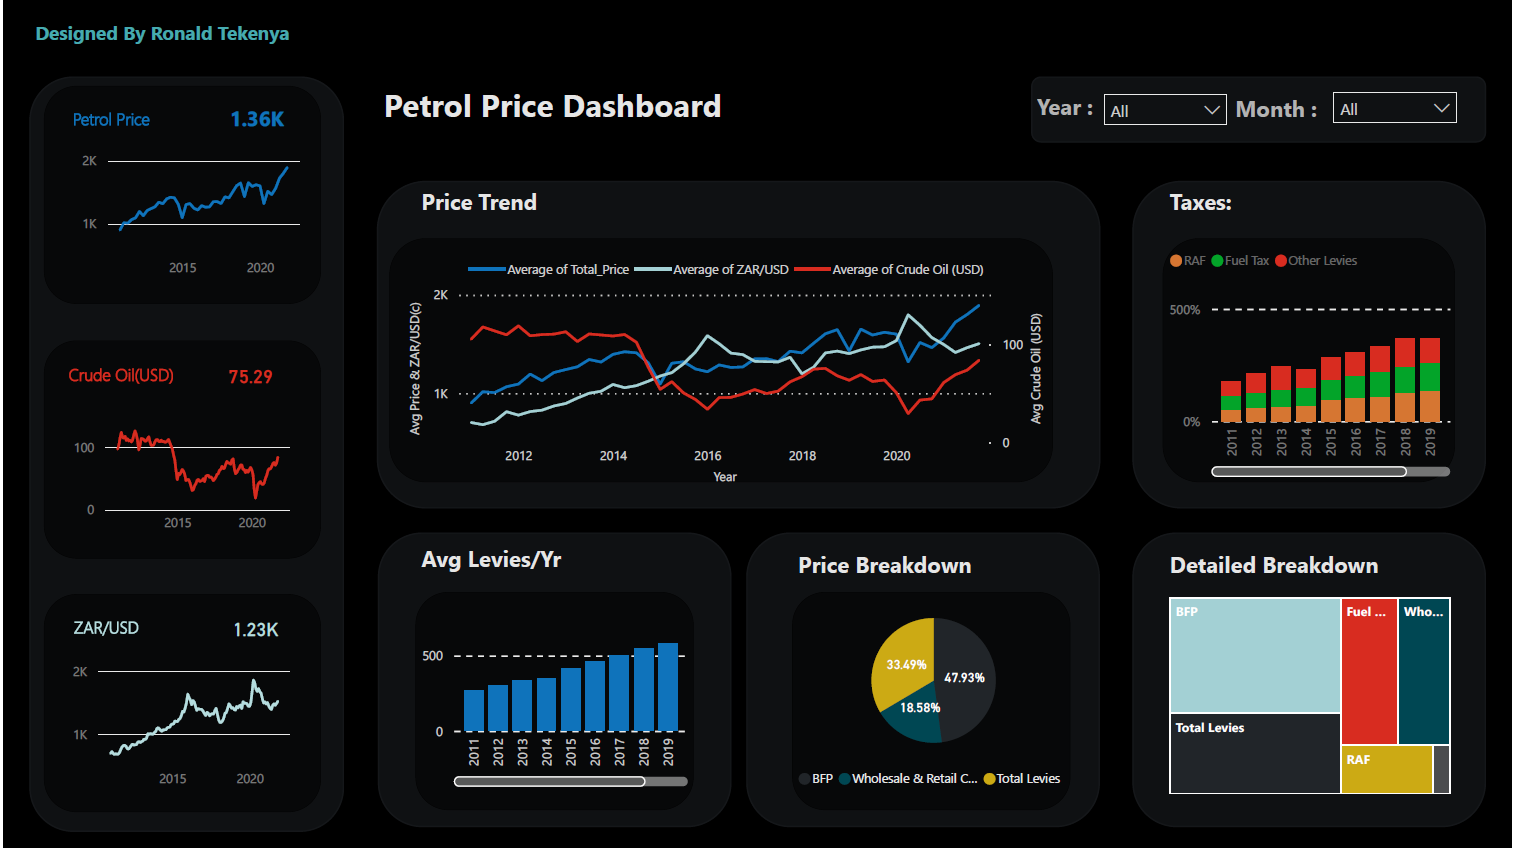

Layout of this report page (visuals, bound fields, positions):
{"tool":"powerbi","page":{"name":"Portfolio v3","canvas":[1280,720],"ordinal":2},"visuals":[{"type":"shape","box":[22.1,65.5,267.5,641.2],"z":1000},{"type":"shape","box":[318,452.5,300,250],"z":2000},{"type":"shape","box":[958.2,452.5,300,250],"z":3000},{"type":"shape","box":[630.6,452.5,300.2,249.7],"z":4000},{"type":"shape","box":[317,154.1,613.7,278.1],"z":5000},{"type":"shape","box":[958.2,154.1,300.2,278.1],"z":6000},{"type":"shape","box":[872.3,65.5,386.1,55.8],"z":7000},{"type":"shape","box":[34.5,73.5,235,185],"z":8000},{"type":"shape","box":[34.5,289.2,235,185],"z":9000},{"type":"shape","box":[34.5,504.8,235,185],"z":10000},{"type":"treemap","fields":{"Values":["Avg(Dataframe_v2.Total Levies)","Avg(Dataframe_v2.Wholesale & Retail Cost)","Avg(Dataframe_v2.RAF)","Avg(Dataframe_v2.Other_Levies)","Avg(Dataframe_v2.Fuel_tax)","Avg(Dataframe_v2.BFP)"]},"box":[984.8,503,248,176.2],"z":11000},{"type":"shape","box":[349.8,503,235.6,185.1],"z":12000},{"type":"columnChart","fields":{"Category":["Dataframe_v2.Date.Variation.Date Hierarchy.Year","Dataframe_v2.Date.Variation.Date Hierarchy.Quarter","Dataframe_v2.Date.Variation.Date Hierarchy.Month"],"Y":["Avg(Dataframe_v2.Total Levies)"]},"box":[349.8,504.8,235.6,168.3],"z":13000},{"type":"lineChart","fields":{"Category":["Dataframe_v2.Date.Variation.Date Hierarchy.Year","Dataframe_v2.Date.Variation.Date Hierarchy.Quarter","Dataframe_v2.Date.Variation.Date Hierarchy.Month"],"Y":["Avg(Dataframe_v2.Total_Price)"]},"box":[62,123.1,195.7,123.1],"z":14000},{"type":"lineChart","fields":{"Category":["Dataframe_v2.Date.Variation.Date Hierarchy.Year","Dataframe_v2.Date.Variation.Date Hierarchy.Quarter","Dataframe_v2.Date.Variation.Date Hierarchy.Month","Dataframe_v2.Date.Variation.Date Hierarchy.Day"],"Y":["Avg(Dataframe_v2.ZAR/USD)"]},"box":[54,556.2,195.7,123.1],"z":15000},{"type":"lineChart","fields":{"Category":["Dataframe_v2.Date.Variation.Date Hierarchy.Year","Dataframe_v2.Date.Variation.Date Hierarchy.Quarter","Dataframe_v2.Date.Variation.Date Hierarchy.Month"],"Y":["Avg(Dataframe_v2.Crude Oil (USD))"]},"box":[54,339.2,195.7,123.1],"z":16000},{"type":"shape","box":[983.9,202.8,248,207.2],"z":17000},{"type":"textbox","box":[317.9,65.5,469.4,57.6],"z":18000},{"type":"textbox","box":[349.8,154.1,268.3,35.4],"z":19000},{"type":"textbox","box":[984.8,154.1,127.5,35.4],"z":20000},{"type":"textbox","box":[349.8,457,235.6,35.4],"z":21000},{"type":"textbox","box":[669.5,462.3,174.5,35.4],"z":22000},{"type":"textbox","box":[984.8,462.3,215.2,35.4],"z":23000},{"type":"textbox","box":[872.3,73.5,73.5,36.3],"z":24000},{"type":"textbox","box":[1040.6,75.3,88.6,36.3],"z":25000},{"type":"shape","box":[669.5,503,235.6,185.1],"z":26000},{"type":"pieChart","fields":{"Y":["Avg(Dataframe_v2.BFP)","Avg(Dataframe_v2.Wholesale & Retail Cost)","Avg(Dataframe_v2.Total Levies)"]},"box":[669.5,503,240,176.2],"z":27000},{"type":"shape","box":[327.7,202.8,563.2,207.2],"z":28000},{"type":"lineChart","fields":{"Category":["Dataframe_v2.Date.Variation.Date Hierarchy.Year","Dataframe_v2.Date.Variation.Date Hierarchy.Quarter","Dataframe_v2.Date.Variation.Date Hierarchy.Month"],"Y":["Avg(Dataframe_v2.Total_Price)","Avg(Dataframe_v2.ZAR/USD)"],"Y2":["Avg(Dataframe_v2.Crude Oil (USD))"]},"box":[340.1,209.9,550.8,207.2],"z":29000},{"type":"columnChart","fields":{"Y":["Sum(Dataframe_v2.RAF)","Sum(Dataframe_v2.Fuel_tax)","Sum(Dataframe_v2.Other_Levies)"],"Category":["Dataframe_v2.Date.Variation.Date Hierarchy.Year","Dataframe_v2.Date.Variation.Date Hierarchy.Month"]},"box":[984.8,202.8,248,207.2],"z":30000},{"type":"card","fields":{"Values":["Avg(Dataframe_v2.Total_Price)"]},"box":[180.7,87.7,69.1,30.1],"z":31000},{"type":"slicer","fields":{"Values":["Dataframe_v2.Date.Variation.Date Hierarchy.Year"]},"box":[923.7,70,124.9,47.8],"z":32000},{"type":"slicer","fields":{"Values":["Dataframe_v2.Date.Variation.Date Hierarchy.Month"]},"box":[1118.5,68.2,124.9,47.8],"z":33000},{"type":"textbox","box":[22.1,12.4,278.1,39],"z":34000},{"type":"textbox","box":[54,86.8,113.4,29.2],"z":34001},{"type":"card","fields":{"Values":["Avg(Dataframe_v2.Crude Oil (USD))"]},"box":[169.2,303.8,80.6,35.4],"z":34002},{"type":"textbox","box":[50.5,303.8,109.8,35.4],"z":34003},{"type":"textbox","box":[55.2,518.3,109.8,35.4],"z":34004},{"type":"card","fields":{"Values":["Avg(Dataframe_v2.ZAR/USD)"]},"box":[173.8,513,80.6,46.1],"z":34005}]}

Visuals, with their boxes in screenshot pixels (x1, y1, x2, y2), scaled from the page's 1280x720 canvas onto the 1516x850 screenshot:
shape: x1=26, y1=77, x2=343, y2=834
shape: x1=377, y1=534, x2=732, y2=829
shape: x1=1135, y1=534, x2=1490, y2=829
shape: x1=747, y1=534, x2=1102, y2=829
shape: x1=375, y1=182, x2=1102, y2=510
shape: x1=1135, y1=182, x2=1490, y2=510
shape: x1=1033, y1=77, x2=1490, y2=143
shape: x1=41, y1=87, x2=319, y2=305
shape: x1=41, y1=341, x2=319, y2=560
shape: x1=41, y1=596, x2=319, y2=814
treemap - Avg(Dataframe_v2.Total Levies) x Avg(Dataframe_v2.Wholesale & Retail Cost): x1=1166, y1=594, x2=1460, y2=802
shape: x1=414, y1=594, x2=693, y2=812
columnChart - Dataframe_v2.Date.Variation.Date Hierarchy.Year x Dataframe_v2.Date.Variation.Date Hierarchy.Quarter: x1=414, y1=596, x2=693, y2=795
lineChart - Dataframe_v2.Date.Variation.Date Hierarchy.Year x Dataframe_v2.Date.Variation.Date Hierarchy.Quarter: x1=73, y1=145, x2=305, y2=291
lineChart - Dataframe_v2.Date.Variation.Date Hierarchy.Year x Dataframe_v2.Date.Variation.Date Hierarchy.Quarter: x1=64, y1=657, x2=296, y2=802
lineChart - Dataframe_v2.Date.Variation.Date Hierarchy.Year x Dataframe_v2.Date.Variation.Date Hierarchy.Quarter: x1=64, y1=400, x2=296, y2=546
shape: x1=1165, y1=239, x2=1459, y2=484
textbox: x1=377, y1=77, x2=932, y2=145
textbox: x1=414, y1=182, x2=732, y2=224
textbox: x1=1166, y1=182, x2=1317, y2=224
textbox: x1=414, y1=540, x2=693, y2=581
textbox: x1=793, y1=546, x2=1000, y2=588
textbox: x1=1166, y1=546, x2=1421, y2=588
textbox: x1=1033, y1=87, x2=1120, y2=130
textbox: x1=1232, y1=89, x2=1337, y2=132
shape: x1=793, y1=594, x2=1072, y2=812
pieChart - Avg(Dataframe_v2.BFP) x Avg(Dataframe_v2.Wholesale & Retail Cost): x1=793, y1=594, x2=1077, y2=802
shape: x1=388, y1=239, x2=1055, y2=484
lineChart - Dataframe_v2.Date.Variation.Date Hierarchy.Year x Dataframe_v2.Date.Variation.Date Hierarchy.Quarter: x1=403, y1=248, x2=1055, y2=492
columnChart - Sum(Dataframe_v2.RAF) x Sum(Dataframe_v2.Fuel_tax): x1=1166, y1=239, x2=1460, y2=484
card - Avg(Dataframe_v2.Total_Price): x1=214, y1=104, x2=296, y2=139
slicer - Dataframe_v2.Date.Variation.Date Hierarchy.Year: x1=1094, y1=83, x2=1242, y2=139
slicer - Dataframe_v2.Date.Variation.Date Hierarchy.Month: x1=1325, y1=81, x2=1473, y2=137
textbox: x1=26, y1=15, x2=356, y2=61
textbox: x1=64, y1=102, x2=198, y2=137
card - Avg(Dataframe_v2.Crude Oil (USD)): x1=200, y1=359, x2=296, y2=400
textbox: x1=60, y1=359, x2=190, y2=400
textbox: x1=65, y1=612, x2=195, y2=654
card - Avg(Dataframe_v2.ZAR/USD): x1=206, y1=606, x2=301, y2=660
